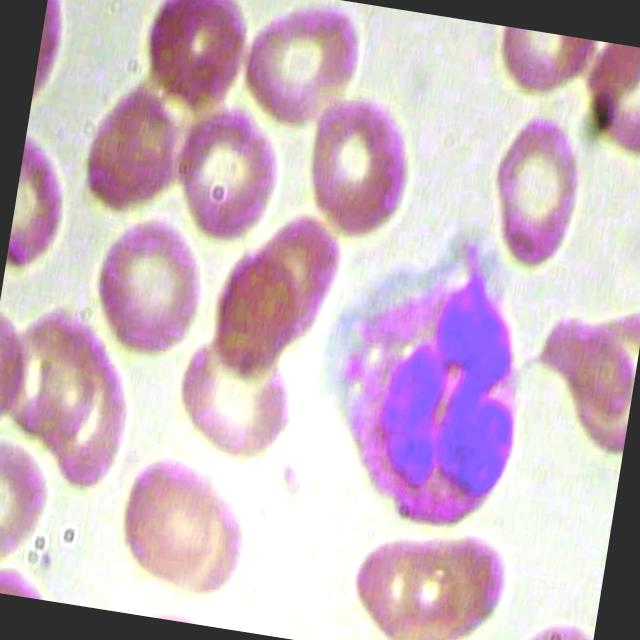RBC: (333, 507, 521, 640), (300, 73, 426, 250), (479, 100, 604, 276), (104, 432, 234, 594), (84, 202, 214, 363), (186, 227, 316, 388), (223, 0, 377, 135), (162, 100, 288, 242), (69, 74, 194, 215), (133, 0, 257, 107)
WBC: (302, 212, 548, 542)
